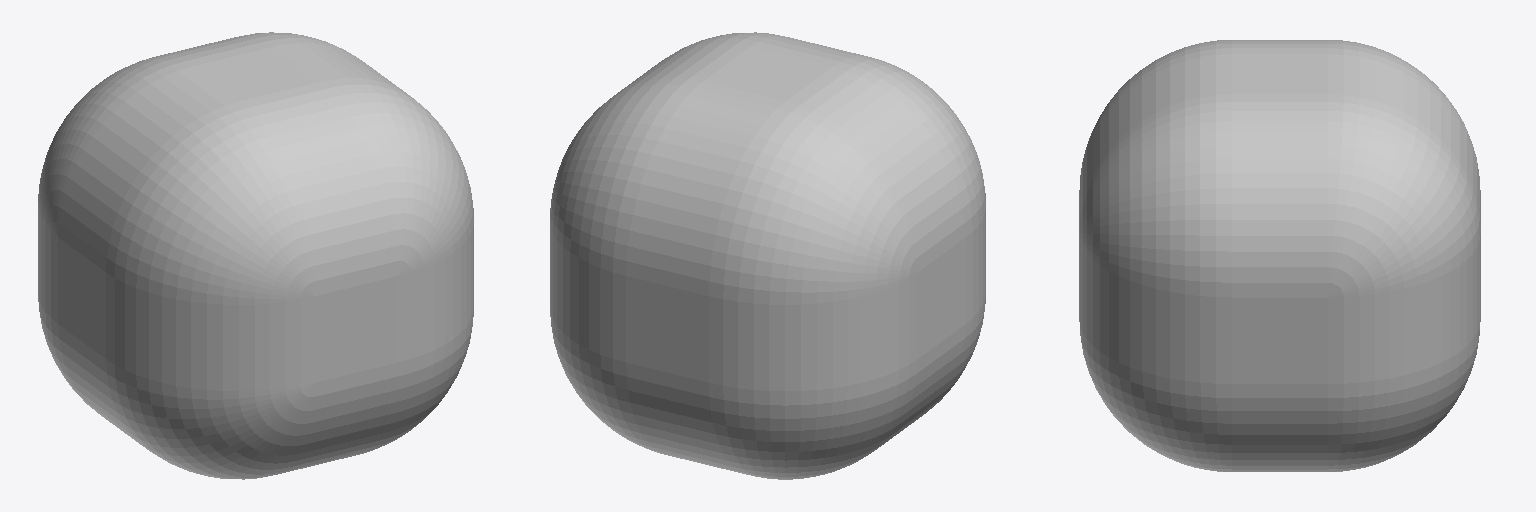
The model's file is mycube.obj.
The picture shows the model from 3 angles: view 1: azimuth 30°, elevation 25°; view 2: azimuth 150°, elevation 25°; view 3: azimuth 270°, elevation 25°; orthographic projection.
Visible parts, largest first — view 1: mesh7, mesh5, mesh13, mesh0, mesh18, mesh14, mesh4, mesh1, mesh12, mesh21, mesh3, mesh8 (+7 smaller); view 2: mesh21, mesh15, mesh24, mesh9, mesh25, mesh14, mesh20, mesh10, mesh22, mesh7, mesh16, mesh8 (+7 smaller); view 3: mesh18, mesh25, mesh23, mesh12, mesh22, mesh3, mesh16, mesh11, mesh17, mesh13, mesh24, mesh19 (+3 smaller).
Boxes of the visible parts, x1=… form: mesh7: x1=106, y1=102, x2=314, y2=304; mesh5: x1=106, y1=273, x2=314, y2=390; mesh13: x1=239, y1=82, x2=397, y2=295; mesh0: x1=106, y1=359, x2=314, y2=479; mesh18: x1=322, y1=78, x2=473, y2=275; mesh14: x1=58, y1=67, x2=237, y2=271; mesh4: x1=315, y1=276, x2=397, y2=382; mesh1: x1=277, y1=363, x2=397, y2=474; mesh12: x1=398, y1=225, x2=473, y2=361; mesh21: x1=38, y1=56, x2=189, y2=236; mesh3: x1=362, y1=311, x2=473, y2=453; mesh8: x1=58, y1=238, x2=105, y2=358; mesh21: x1=709, y1=102, x2=917, y2=304; mesh15: x1=709, y1=273, x2=917, y2=390; mesh24: x1=626, y1=82, x2=784, y2=295; mesh9: x1=709, y1=359, x2=917, y2=479; mesh25: x1=550, y1=78, x2=701, y2=275; mesh14: x1=786, y1=67, x2=965, y2=271; mesh20: x1=626, y1=276, x2=708, y2=382; mesh10: x1=626, y1=363, x2=746, y2=474; mesh22: x1=550, y1=225, x2=625, y2=361; mesh7: x1=834, y1=56, x2=985, y2=236; mesh16: x1=550, y1=311, x2=661, y2=453; mesh8: x1=918, y1=238, x2=965, y2=358; mesh18: x1=1079, y1=94, x2=1231, y2=296; mesh25: x1=1328, y1=94, x2=1480, y2=296; mesh23: x1=1232, y1=94, x2=1327, y2=297; mesh12: x1=1079, y1=234, x2=1231, y2=383; mesh22: x1=1328, y1=234, x2=1480, y2=383; mesh3: x1=1079, y1=320, x2=1231, y2=471; mesh16: x1=1328, y1=320, x2=1480, y2=471; mesh11: x1=1232, y1=384, x2=1327, y2=471; mesh17: x1=1232, y1=298, x2=1327, y2=383; mesh13: x1=1079, y1=54, x2=1231, y2=230; mesh24: x1=1328, y1=54, x2=1480, y2=230; mesh19: x1=1232, y1=54, x2=1327, y2=93.
Size of the model in its own units: 0.08 by 0.08 by 0.08.